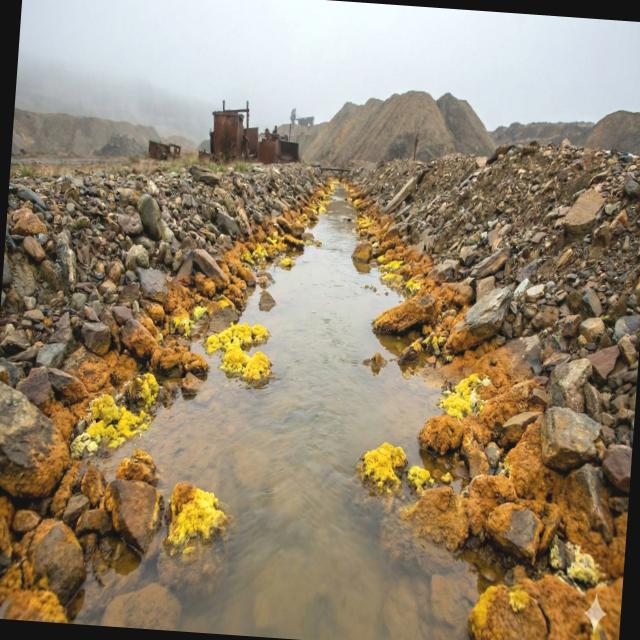yellow_boy: (138, 184, 466, 640)
